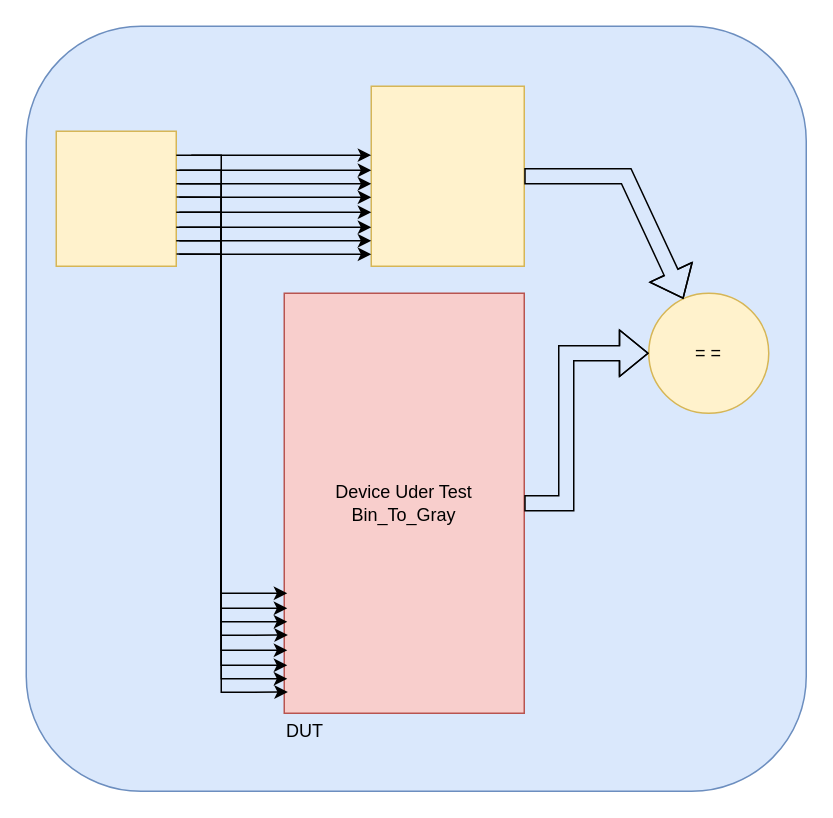
The diagram is 833 pixels wide and 818 high, and some of its shapes have lost their labels. Each missing label, with the centre of its shape:
"Reference Bin_2_Gray converter" belongs at pixel 447 175.
"Up Counter" belongs at pixel 115 198.
